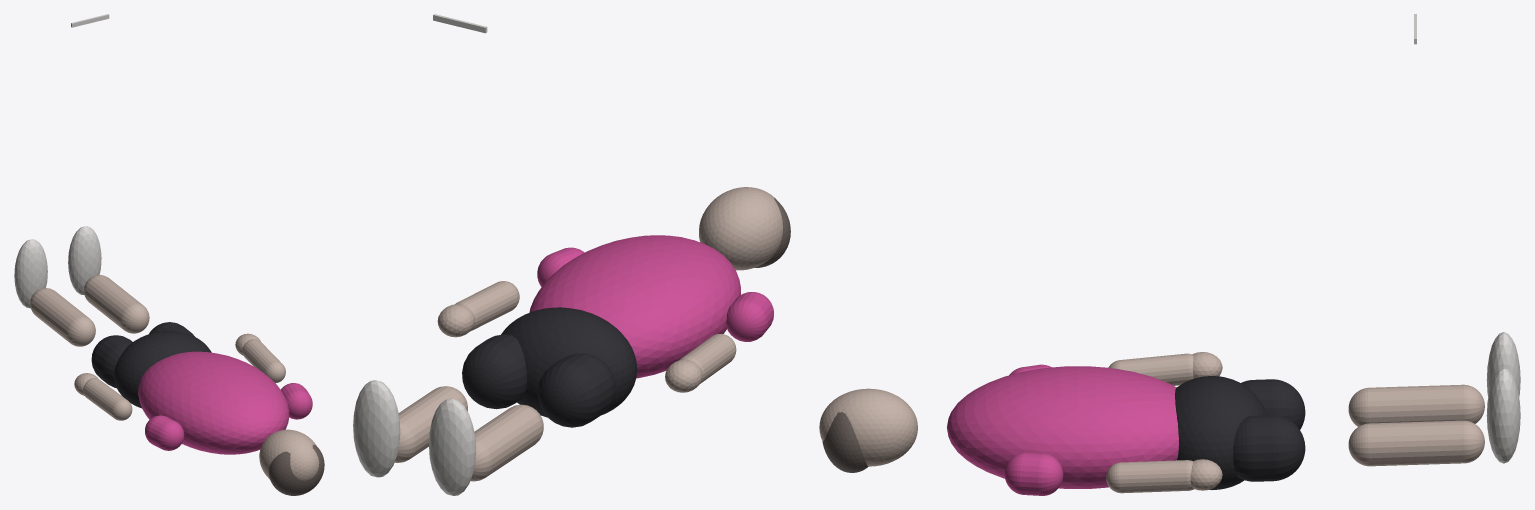
The model's file is athlete-stand.glb.
3 views of the same model, side by side, from view 1: azimuth 30°, elevation 25°; view 2: azimuth 150°, elevation 25°; view 3: azimuth 270°, elevation 25° (orthographic). The views are drawn at different scales.
Parts seen in each view (by area): view 1: GARMENT_TORSO, GARMENT_BIB_HIPS, BODY_CALF_L, BODY_CALF_R, BODY_HEAD, SHOE_L, SHOE_R, BODY_HAIR, GARMENT_BIB_LEG_L, BODY_FOREARM_L, GARMENT_SLEEVE_L, BODY_FOREARM_R (+1 smaller); view 2: GARMENT_TORSO, GARMENT_BIB_HIPS, BODY_HEAD, GARMENT_BIB_LEG_L, GARMENT_BIB_LEG_R, SHOE_R, SHOE_L, BODY_CALF_L, BODY_CALF_R, GARMENT_SLEEVE_L, BODY_FOREARM_R, BODY_FOREARM_L (+4 smaller); view 3: GARMENT_TORSO, GARMENT_BIB_HIPS, BODY_CALF_R, BODY_HEAD, BODY_CALF_L, GARMENT_BIB_LEG_R, BODY_FOREARM_R, SHOE_R, GARMENT_SLEEVE_R, GARMENT_BIB_LEG_L, BODY_HAIR, BODY_FOREARM_L (+2 smaller).
Boxes of the visible parts, bbox=[...] form: GARMENT_TORSO: bbox=[138, 351, 289, 454]; GARMENT_BIB_HIPS: bbox=[114, 331, 211, 408]; BODY_CALF_L: bbox=[30, 288, 95, 346]; BODY_CALF_R: bbox=[84, 275, 149, 333]; BODY_HEAD: bbox=[259, 429, 319, 480]; SHOE_L: bbox=[14, 239, 47, 308]; SHOE_R: bbox=[68, 226, 101, 294]; BODY_HAIR: bbox=[268, 444, 324, 495]; GARMENT_BIB_LEG_L: bbox=[91, 335, 132, 388]; BODY_FOREARM_L: bbox=[83, 378, 132, 420]; GARMENT_SLEEVE_L: bbox=[145, 415, 184, 450]; BODY_FOREARM_R: bbox=[242, 339, 285, 383]; GARMENT_TORSO: bbox=[529, 235, 740, 378]; GARMENT_BIB_HIPS: bbox=[501, 307, 637, 417]; BODY_HEAD: bbox=[699, 187, 782, 270]; GARMENT_BIB_LEG_L: bbox=[538, 353, 615, 427]; GARMENT_BIB_LEG_R: bbox=[462, 334, 526, 409]; SHOE_R: bbox=[353, 380, 400, 477]; SHOE_L: bbox=[429, 398, 475, 495]; BODY_CALF_L: bbox=[470, 404, 543, 481]; BODY_CALF_R: bbox=[394, 386, 467, 462]; GARMENT_SLEEVE_L: bbox=[726, 292, 773, 341]; BODY_FOREARM_R: bbox=[455, 281, 519, 331]; BODY_FOREARM_L: bbox=[679, 334, 736, 383]; GARMENT_TORSO: bbox=[947, 366, 1178, 488]; GARMENT_BIB_HIPS: bbox=[1175, 376, 1267, 489]; BODY_CALF_R: bbox=[1348, 420, 1484, 466]; BODY_HEAD: bbox=[819, 388, 917, 466]; BODY_CALF_L: bbox=[1348, 384, 1484, 426]; GARMENT_BIB_LEG_R: bbox=[1233, 415, 1305, 481]; BODY_FOREARM_R: bbox=[1106, 460, 1194, 493]; SHOE_R: bbox=[1486, 368, 1520, 463]; GARMENT_SLEEVE_R: bbox=[1004, 452, 1063, 495]; GARMENT_BIB_LEG_L: bbox=[1241, 379, 1305, 429]; BODY_HAIR: bbox=[822, 412, 868, 472]; BODY_FOREARM_L: bbox=[1108, 353, 1193, 385].
Size of the model in its own units: 1.23 by 2.13 by 2.98.
